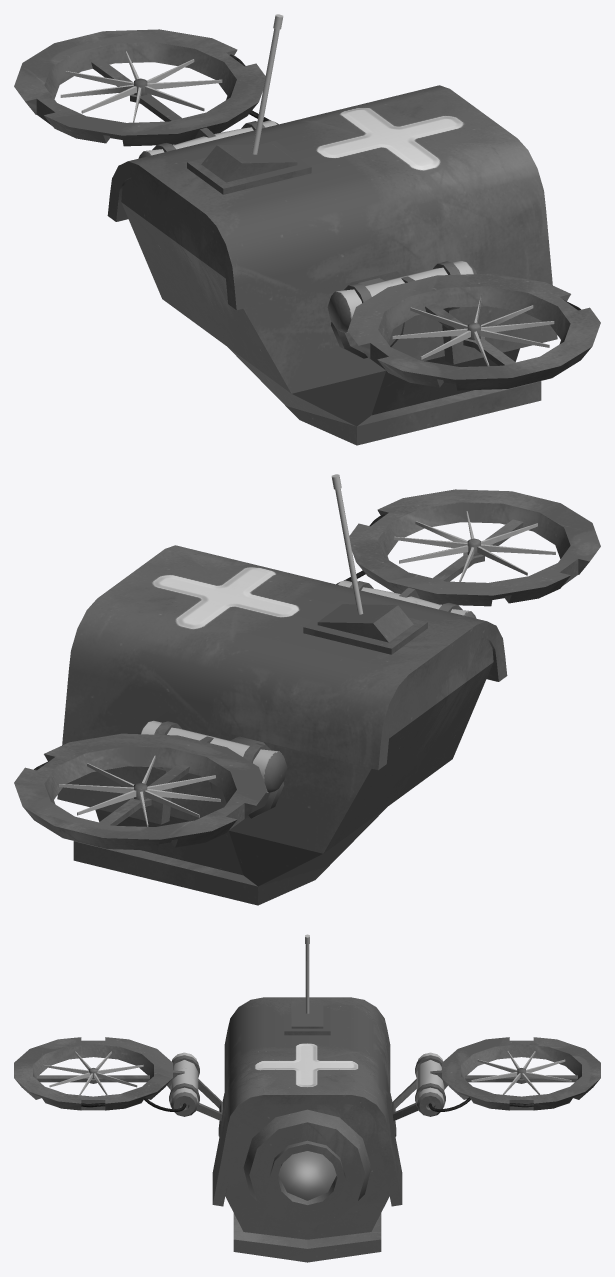
The model's file is dron2.fbx.
The picture shows the model from 3 angles, top to bottom: view 1: azimuth 30°, elevation 25°; view 2: azimuth 150°, elevation 25°; view 3: azimuth 270°, elevation 25°; orthographic projection. The views are drawn at different scales.
Parts seen in each view (by area): view 1: cable, Cube.021, Cube.020; view 2: cable, Cube.021, Cube.020; view 3: cable, Cube.020, Cube.021.
Boxes of the visible parts, x1=… form: cable: x1=14, y1=14, x2=600, y2=445; Cube.021: x1=60, y1=51, x2=222, y2=122; Cube.020: x1=392, y1=295, x2=554, y2=366; cable: x1=14, y1=474, x2=600, y2=905; Cube.021: x1=59, y1=755, x2=220, y2=826; Cube.020: x1=394, y1=511, x2=555, y2=581; cable: x1=14, y1=934, x2=600, y2=1262; Cube.020: x1=43, y1=1051, x2=143, y2=1095; Cube.021: x1=471, y1=1051, x2=571, y2=1094.
Size of the model in its own units: 0.3116 by 0.3801 by 0.769.
